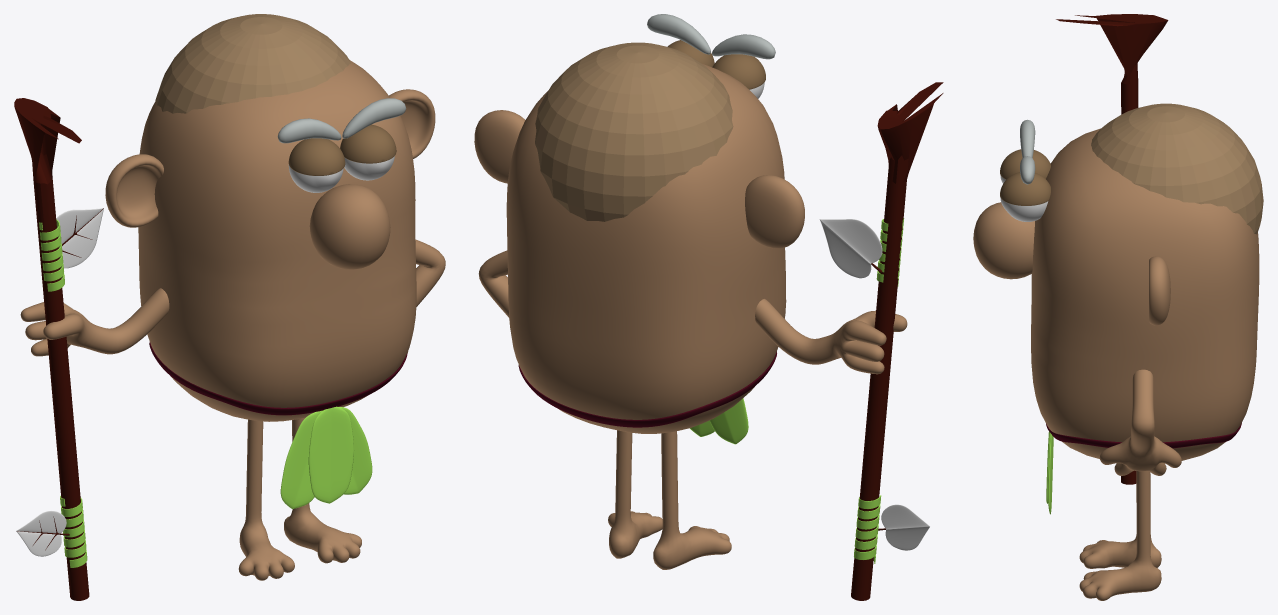
Rendered from indioxama.fbx.
The picture shows the model from 3 angles, left to right: view 1: azimuth 30°, elevation 25°; view 2: azimuth 150°, elevation 25°; view 3: azimuth 270°, elevation 25°; orthographic projection. The views are drawn at different scales.
Visible parts, largest first — view 1: Cube.005, Sphere.017, Circle.007, Plane.012, Sphere.004, Cube.003, Plane.014, Plane.011, Cube.008, Plane.035, Sphere.005, Plane.015 (+2 smaller); view 2: Cube.005, Sphere.017, Circle.007, Plane.011, Cube.003, Cube.008, Sphere.004, Plane.035, Circle.004, Plane.014; view 3: Cube.005, Sphere.017, Circle.007, Sphere.004, Cube.008, Cube.003, Sphere.005.
Part boxes in pixels (x1=…): Cube.005: x1=20, y1=60, x2=445, y2=580; Sphere.017: x1=155, y1=14, x2=350, y2=113; Circle.007: x1=14, y1=98, x2=89, y2=600; Plane.012: x1=308, y1=406, x2=353, y2=503; Sphere.004: x1=288, y1=124, x2=396, y2=175; Cube.003: x1=277, y1=98, x2=406, y2=143; Plane.014: x1=280, y1=410, x2=322, y2=508; Plane.011: x1=56, y1=208, x2=103, y2=268; Cube.008: x1=149, y1=342, x2=407, y2=415; Plane.035: x1=16, y1=511, x2=66, y2=556; Sphere.005: x1=288, y1=156, x2=394, y2=192; Plane.015: x1=338, y1=407, x2=372, y2=494; Cube.005: x1=474, y1=64, x2=907, y2=569; Sphere.017: x1=535, y1=42, x2=733, y2=221; Circle.007: x1=851, y1=82, x2=943, y2=600; Plane.011: x1=819, y1=219, x2=882, y2=278; Cube.003: x1=647, y1=14, x2=775, y2=59; Cube.008: x1=518, y1=351, x2=776, y2=427; Sphere.004: x1=667, y1=40, x2=765, y2=89; Plane.035: x1=881, y1=504, x2=929, y2=550; Circle.004: x1=854, y1=495, x2=881, y2=563; Plane.014: x1=709, y1=398, x2=748, y2=444; Cube.005: x1=973, y1=128, x2=1259, y2=600; Sphere.017: x1=1091, y1=103, x2=1263, y2=234; Circle.007: x1=1056, y1=14, x2=1168, y2=484; Sphere.004: x1=1000, y1=149, x2=1050, y2=205; Cube.008: x1=1046, y1=423, x2=1241, y2=448; Cube.003: x1=1020, y1=119, x2=1035, y2=184; Sphere.005: x1=1000, y1=175, x2=1048, y2=221.
Bounding box in the file's own units: 1490 × 1680 × 950.
